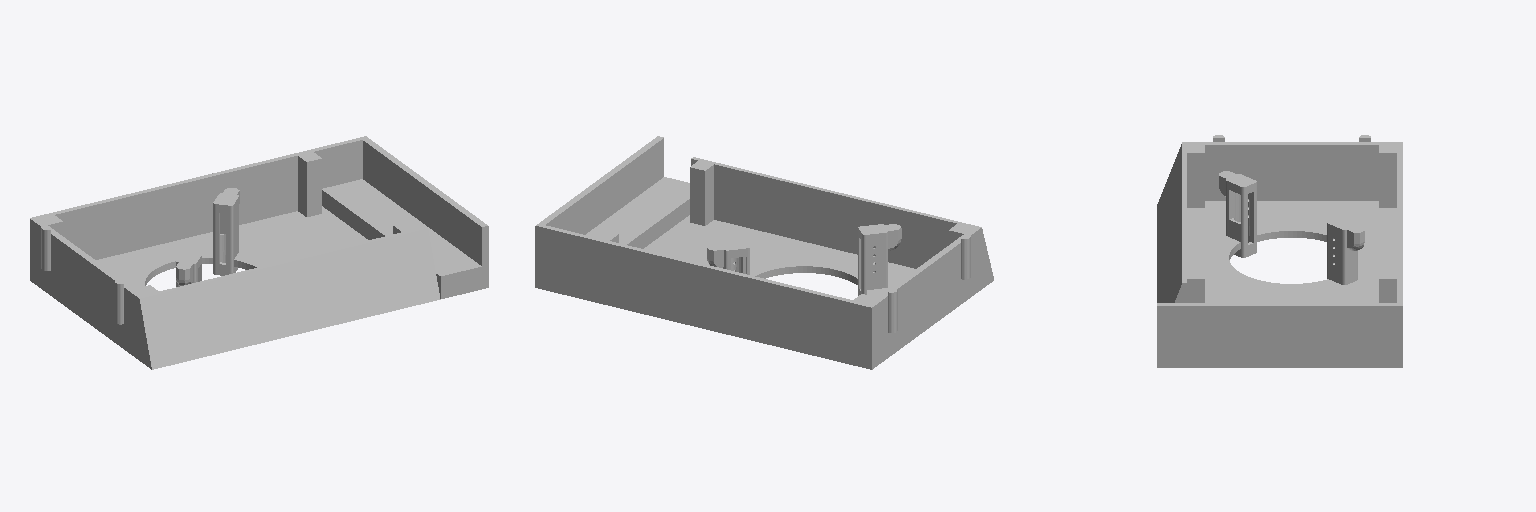
Rendered from Housing.obj.
3 views of the same model, side by side, from view 1: azimuth 30°, elevation 25°; view 2: azimuth 150°, elevation 25°; view 3: azimuth 270°, elevation 25° (orthographic).
Size of the model in its own units: 132 by 27.7 by 82.